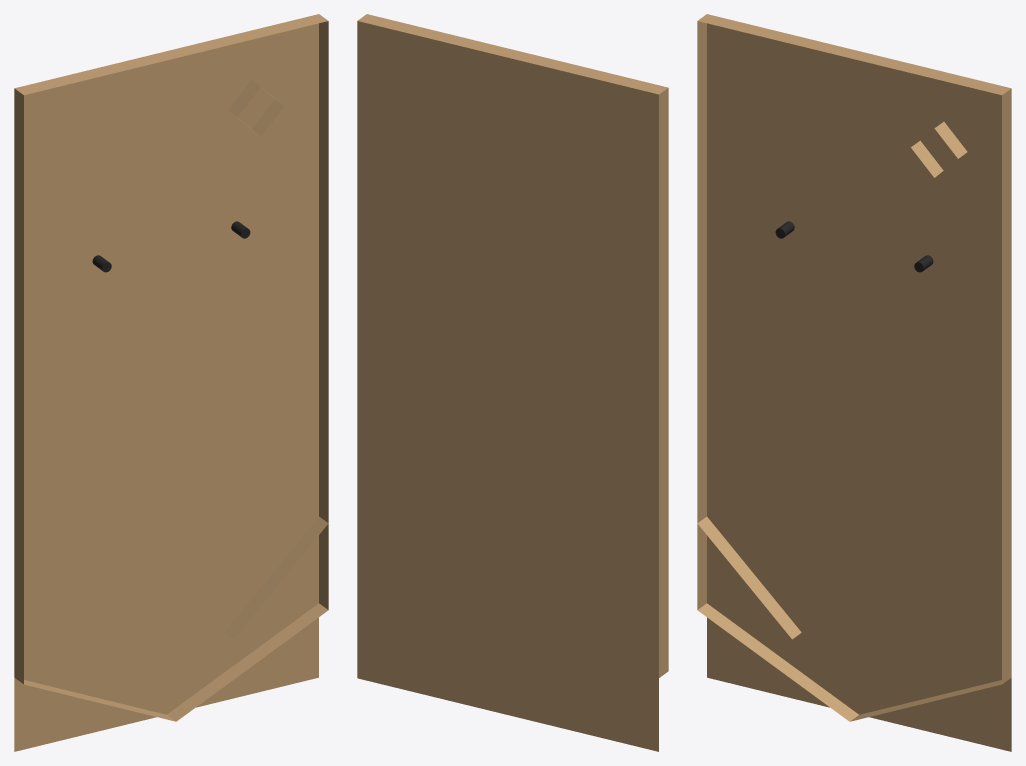
The model's file is playfield.glb.
3 views of the same model, side by side, from view 1: azimuth 30°, elevation 25°; view 2: azimuth 150°, elevation 25°; view 3: azimuth 330°, elevation 25° (orthographic).
Parts seen in each view (by area): view 1: floor, walls[0], walls[1], walls[2]; view 2: floor, walls[0], walls[1]; view 3: floor, walls[0], walls[1], walls[2].
Part boxes in pixels (box(x1,y1,x2,y2)): floor: box(14, 23, 318, 751); walls[0]: box(14, 14, 328, 639); walls[1]: box(14, 524, 328, 721); walls[2]: box(228, 80, 284, 136); floor: box(357, 21, 658, 751); walls[0]: box(358, 14, 668, 591); walls[1]: box(659, 585, 668, 677); floor: box(707, 23, 1011, 751); walls[0]: box(697, 14, 1011, 639); walls[1]: box(697, 524, 1011, 721); walls[2]: box(911, 122, 967, 177).
Bounding box in the file's own units: 0.514 × 1.07 × 0.028.
